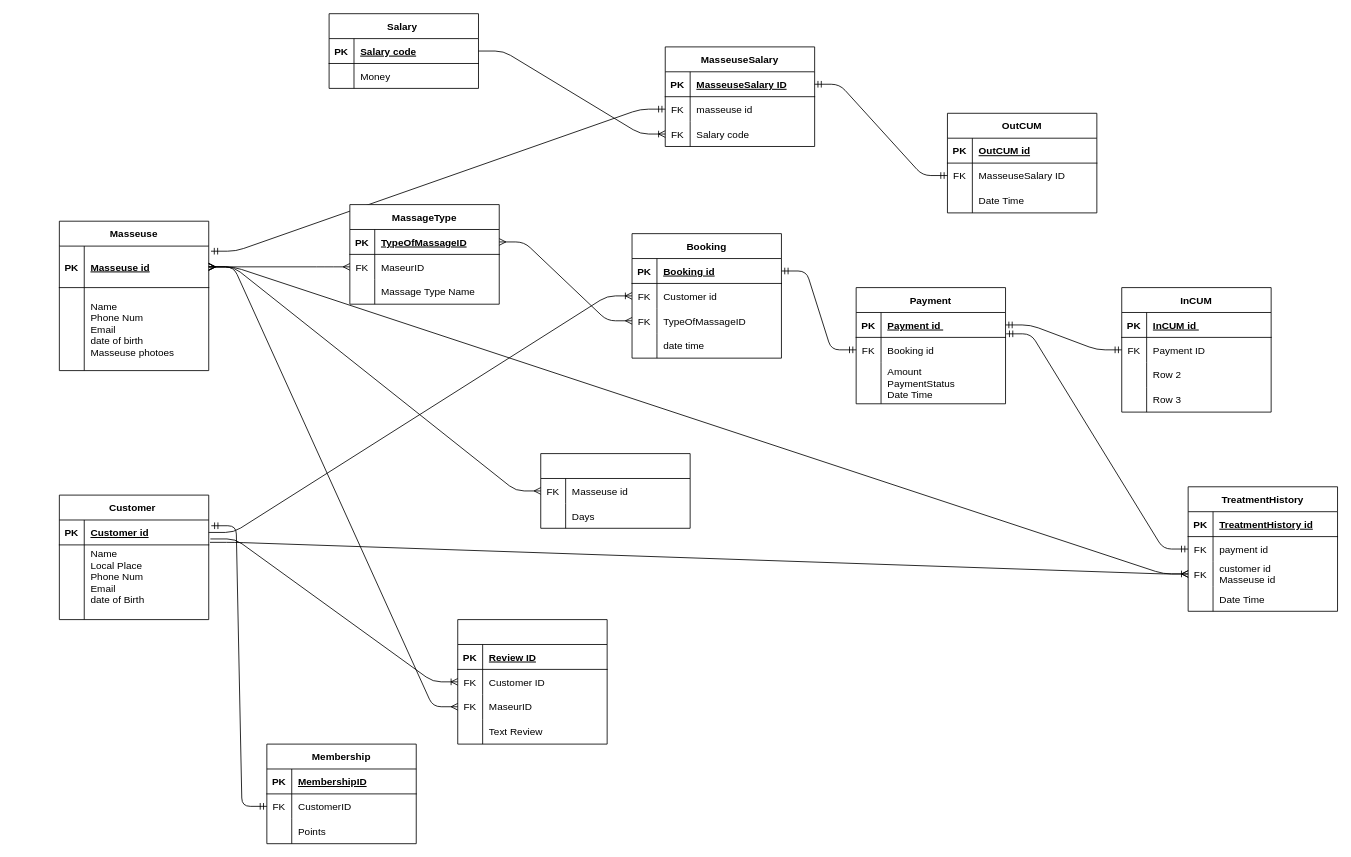
Image size: 1351x857. Some labels were removed from this diagram. Here are the shapes that lost their labels. From the top down, the box of each, then its label:
(540, 453, 690, 528): MasseuseDayOff
(457, 619, 607, 744): CusTomerReview
